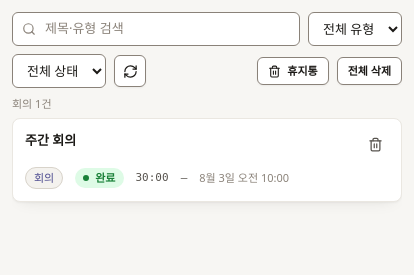
Scenario: 삭제 → 휴지통 → 되돌리기 › 서버가 되돌릴 수 없다고 하면 [되돌리기] 를 띄우지 않는다
The width and height of the screenshot is (414, 275).
Click the button named "휴지통으로 보내기". click: (375, 145)
box: [361,131,389,159]
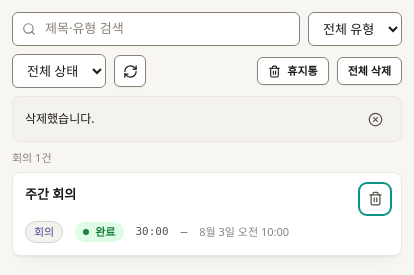
Check: the text "삭제했습니다." is shown, box [25,110,94,128]
